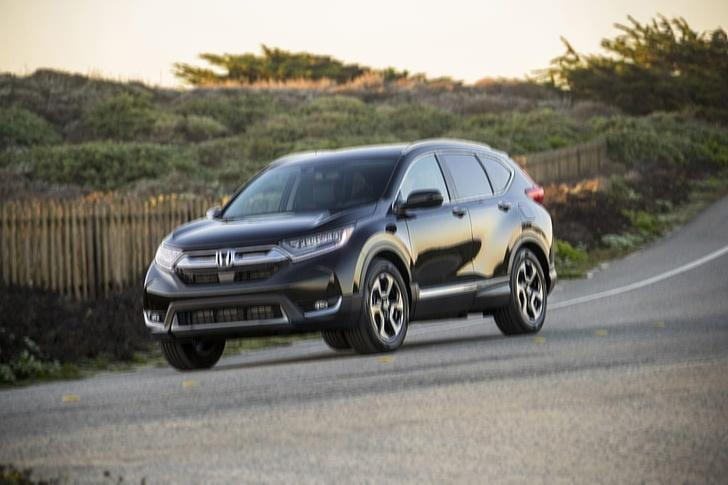Car hood: (161, 199, 381, 249)
Fender - -F-R-: (345, 195, 417, 320)
Fender - -R-L-: (523, 193, 549, 255)
Front bumper: (138, 252, 368, 342)
Headlight - -L-: (270, 220, 361, 265), (522, 177, 549, 205)
Headlight - -R-: (148, 239, 187, 274)
Passenger-s door - -F-L-: (412, 148, 476, 298)
Passenger-s door - -R-L-: (461, 148, 523, 298)
Rear bumper: (542, 247, 562, 300)
Side bumper - -L-: (401, 274, 517, 321)
Side mirror - -L-: (392, 186, 449, 217)
Side mirror - -R-: (199, 202, 227, 225)
